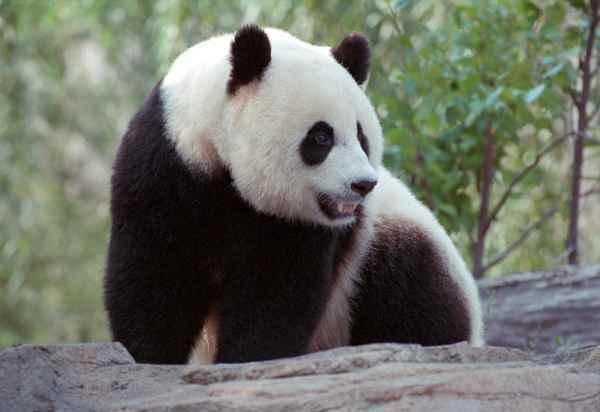panda: (105, 24, 483, 363)
